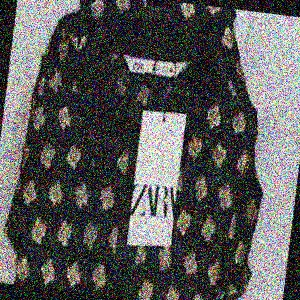zara: (113, 90, 243, 269)
